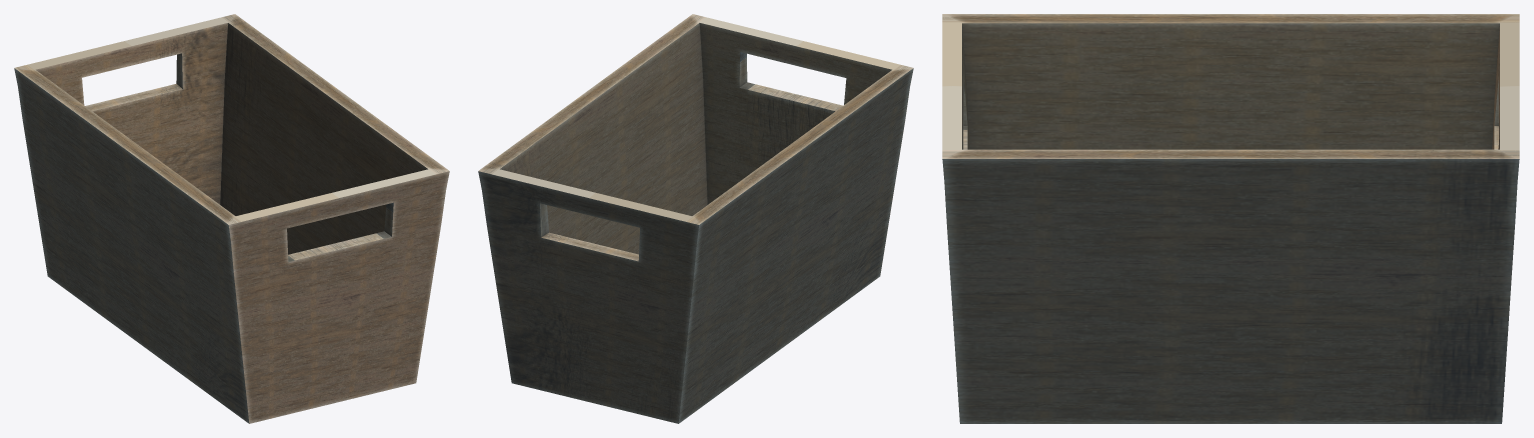
Rendered from laundry_basketV4.fbx.
3 renders of one model, left to right at view 1: azimuth 30°, elevation 25°; view 2: azimuth 150°, elevation 25°; view 3: azimuth 270°, elevation 25°, orthographic. The views are drawn at different scales.
Parts seen in each view (by area): view 1: pCube1; view 2: pCube1; view 3: pCube1.
Part boxes in pixels (x1,y1,x2,y2): pCube1: (14,14,449,423); pCube1: (478,14,913,423); pCube1: (942,14,1519,423).
Size of the model in its own units: 0.0414 by 0.0376 by 0.0695.
1 material, 1 textured.
